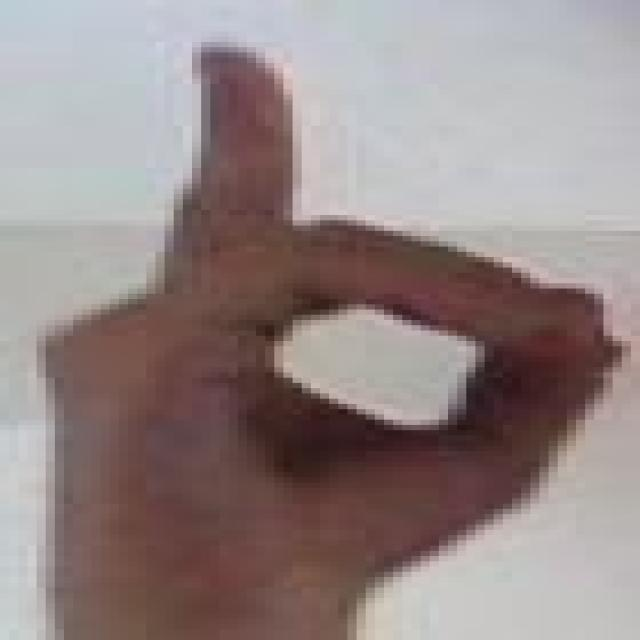D1: (24, 14, 631, 558)
